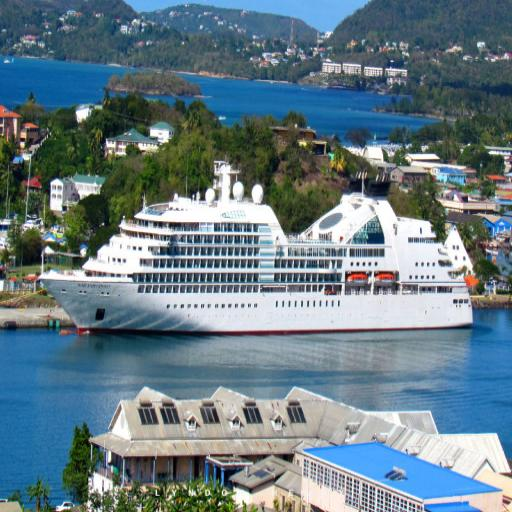cruises: (36, 157, 480, 343)
